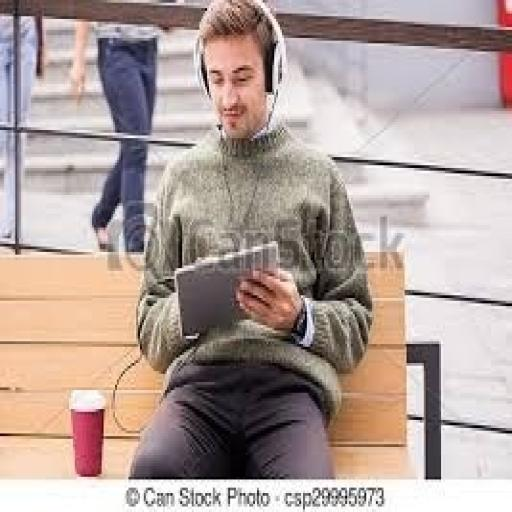listening_to_music: (126, 0, 375, 479)
